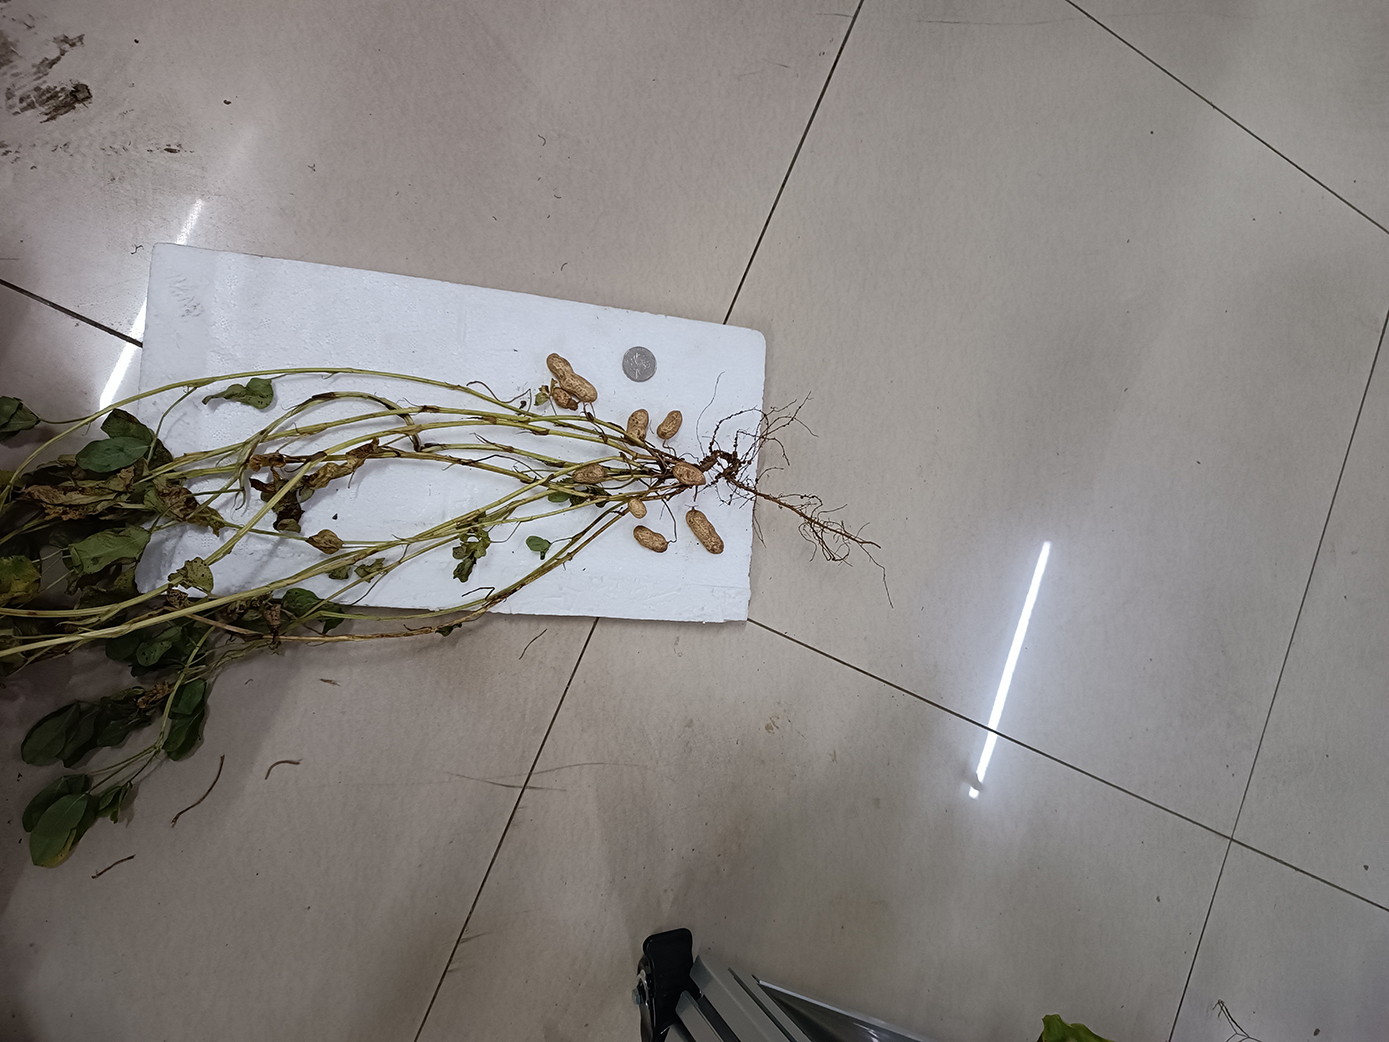h: (546, 354, 597, 403), (686, 509, 724, 554), (633, 525, 669, 553), (572, 462, 606, 486), (626, 408, 649, 442), (656, 410, 683, 439), (674, 462, 706, 486), (628, 495, 647, 519)
l: (549, 387, 577, 410)
